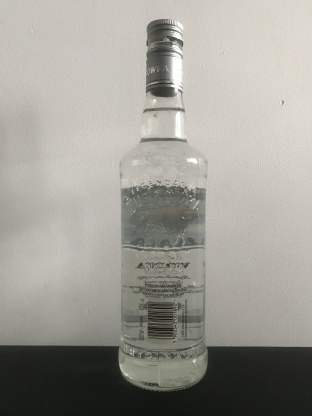nakretka: (144, 17, 184, 97)
